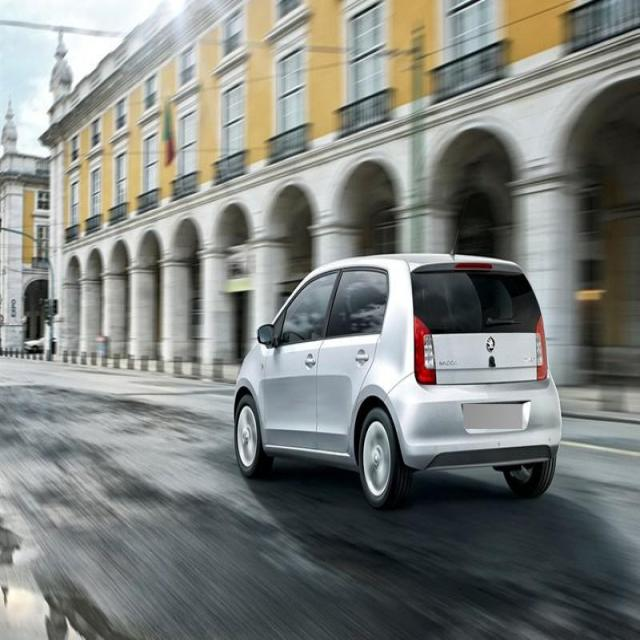back_glass: (411, 270, 542, 334)
back_left_side_light: (412, 314, 438, 386)
back_right_side_light: (534, 315, 548, 381)
door: (316, 269, 390, 456)
front_left_side_door: (262, 265, 342, 453)
front_left_side_mirror: (256, 322, 275, 346)
rear_bumper: (383, 366, 562, 470)
wheel: (357, 407, 412, 508), (234, 392, 272, 478), (502, 456, 558, 493)
